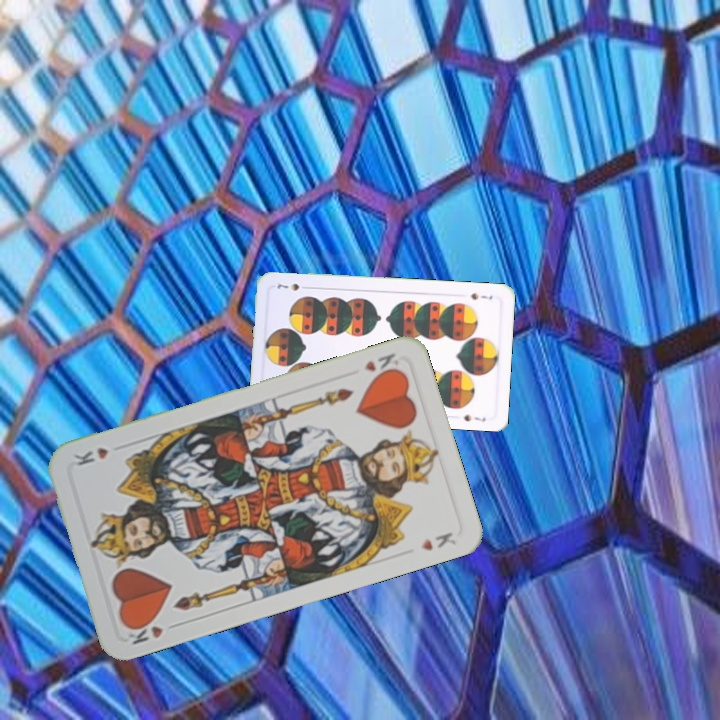HK: (123, 614, 166, 648), (360, 349, 402, 381)
S7: (467, 289, 495, 302)
